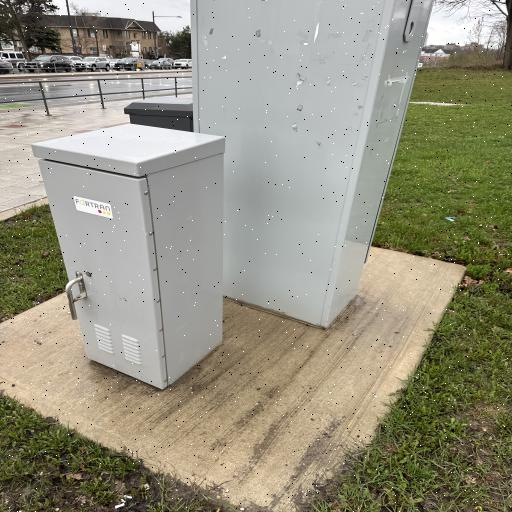Electrical Box: (192, 0, 436, 328), (32, 96, 228, 388)
